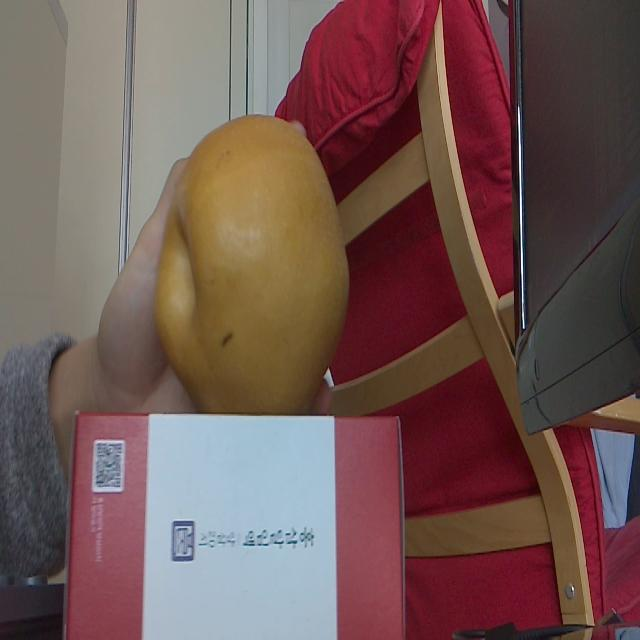pear: (154, 116, 347, 417)
